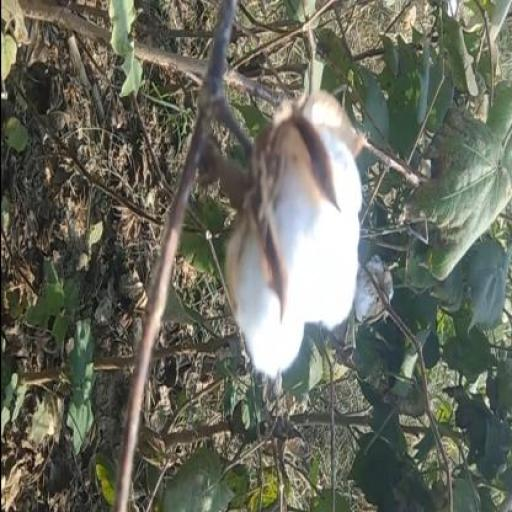cotton_ready: (168, 93, 381, 344)
